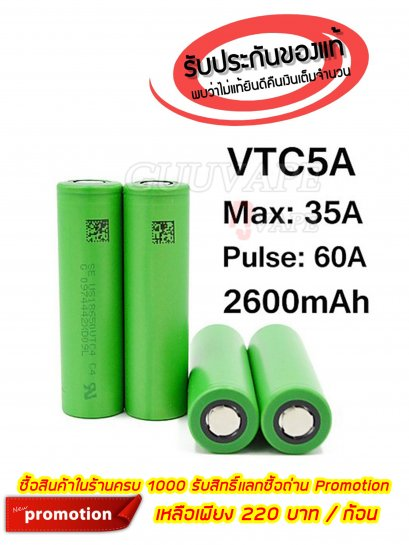Battery: (120, 174, 191, 425), (56, 175, 128, 422), (249, 320, 334, 459), (186, 321, 259, 457)
